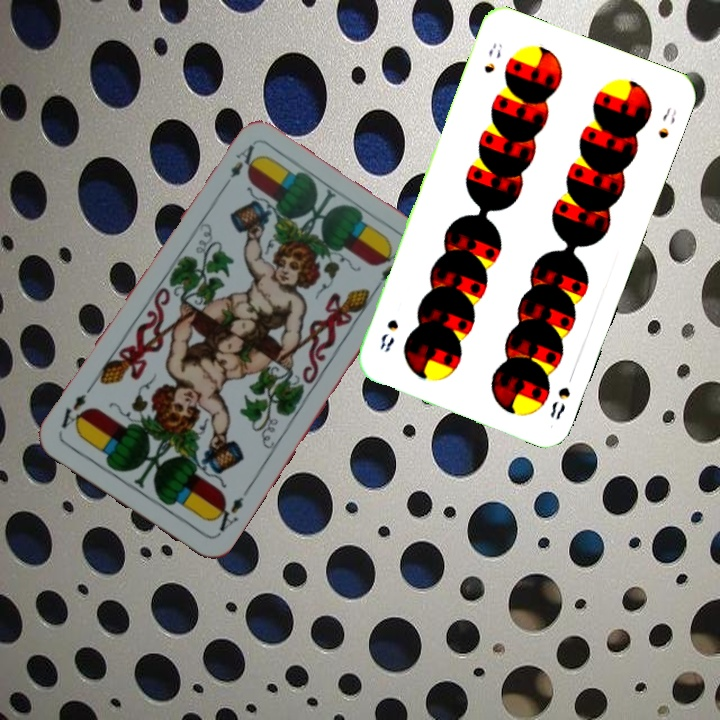EA: (217, 140, 258, 193), (207, 492, 247, 538)
S8: (545, 383, 573, 422), (480, 38, 506, 76)
